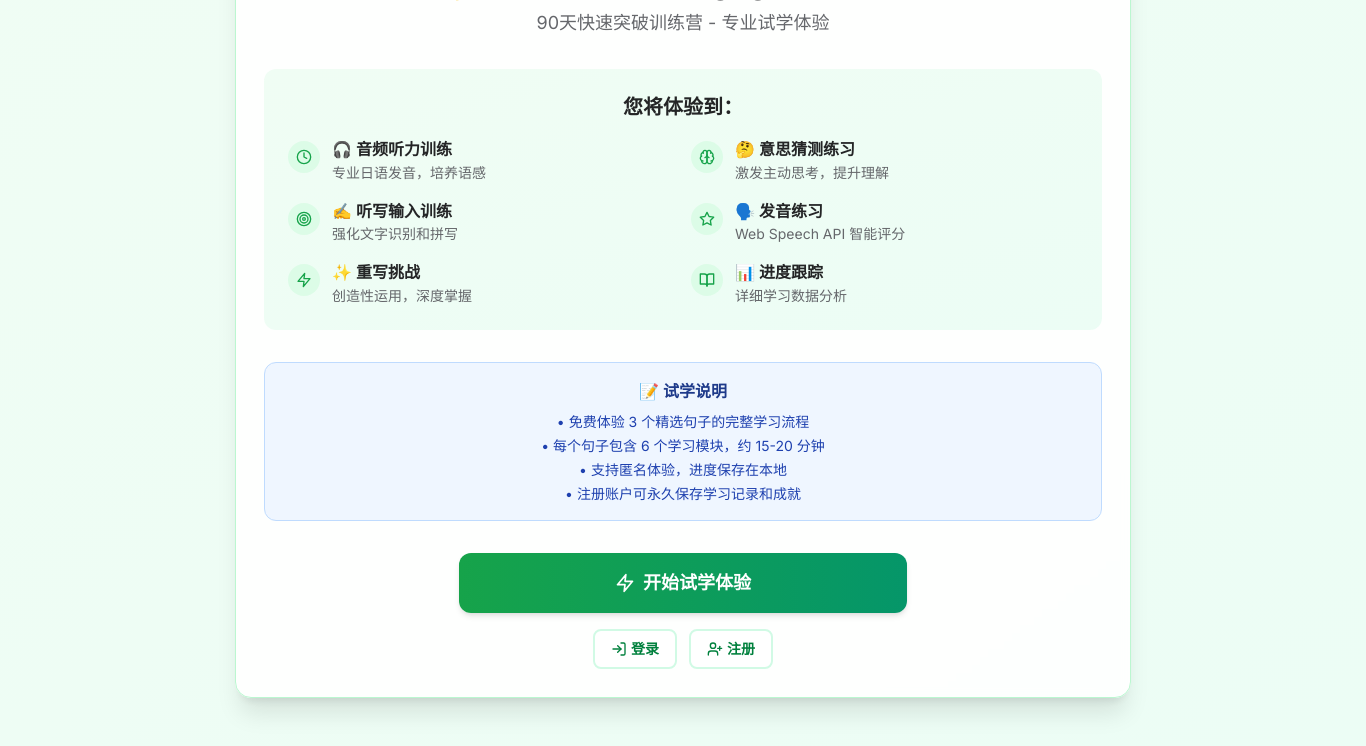
Test: CampBreakthroughLearning - 学习界面 › 显示试学句子列表
(page scrolled)
Step 1. Click the button "开始试学体验" → [683, 583], box [459, 553, 907, 613]
(page scrolled)
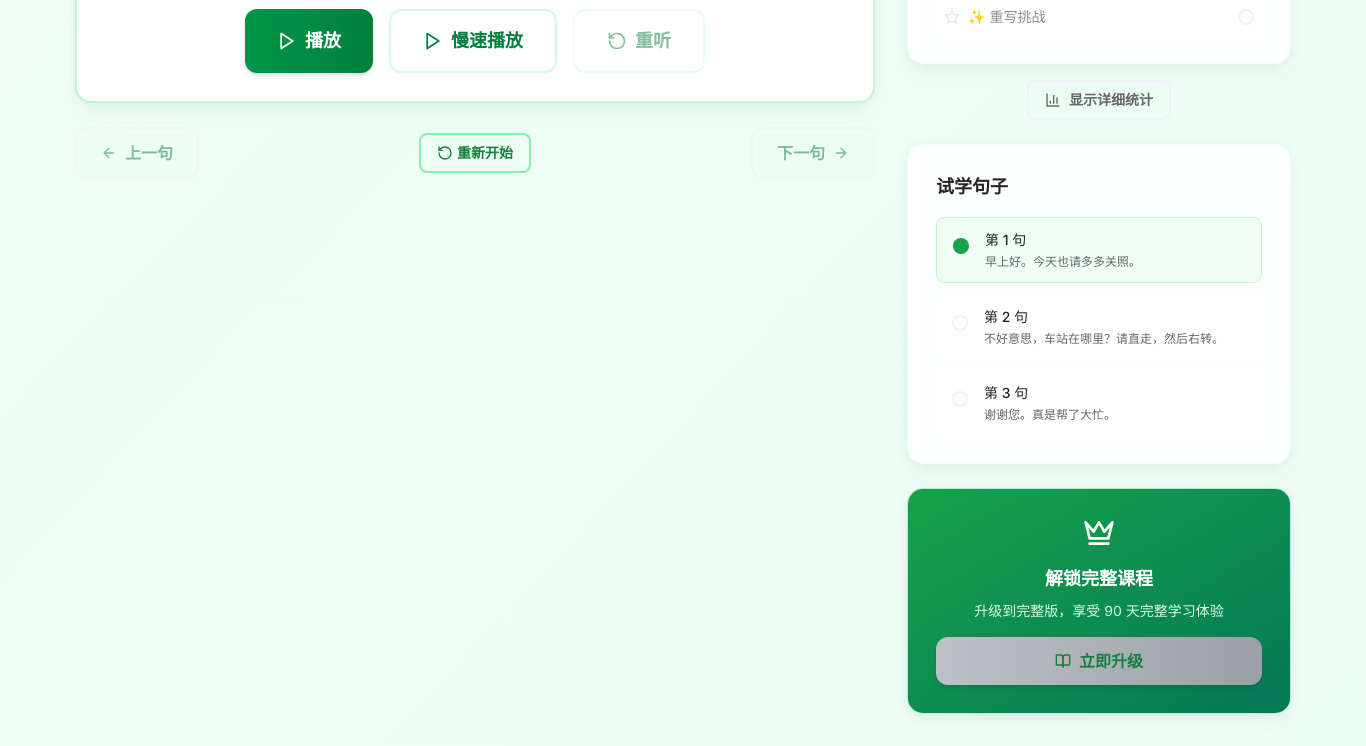
Result: the heading "试学句子" is shown at [936, 176, 1008, 197]
Result: the text "第 1 句" is shown at [985, 231, 1026, 248]
Result: the text "第 2 句" is shown at [984, 308, 1028, 325]
